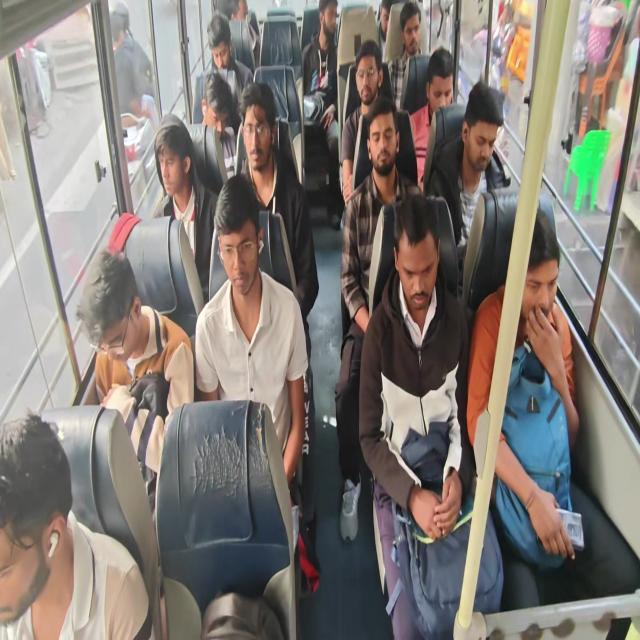person: (466, 207, 639, 636), (358, 192, 504, 638), (236, 81, 320, 594), (334, 95, 420, 542), (194, 174, 309, 486), (0, 410, 155, 639), (76, 246, 194, 510), (423, 80, 508, 276), (339, 39, 418, 209), (153, 114, 220, 304), (299, 0, 341, 228), (109, 1, 157, 160), (408, 46, 454, 190), (202, 10, 254, 130), (386, 1, 429, 112), (200, 70, 237, 174), (218, 0, 260, 71), (376, 0, 394, 62)
